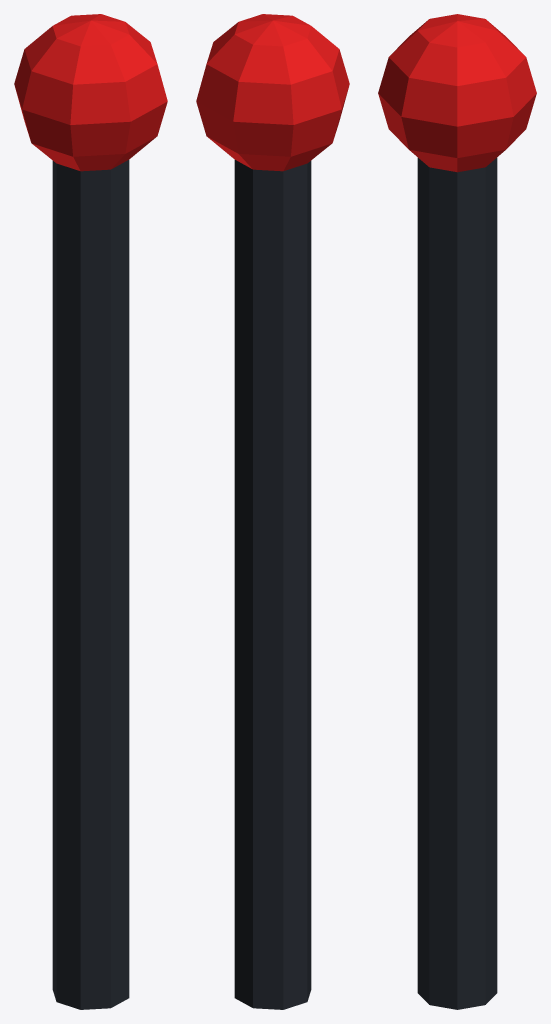
Rendered from Palo.obj.
The picture shows the model from 3 angles, left to right: view 1: azimuth 30°, elevation 25°; view 2: azimuth 150°, elevation 25°; view 3: azimuth 270°, elevation 25°; orthographic projection.
Parts seen in each view (by area): view 1: Baliza_Perimetro_5_Poste, Baliza_Perimetro_5_Luz; view 2: Baliza_Perimetro_5_Poste, Baliza_Perimetro_5_Luz; view 3: Baliza_Perimetro_5_Poste, Baliza_Perimetro_5_Luz.
Part boxes in pixels (x1,y1,x2,y2): Baliza_Perimetro_5_Poste: (52, 160, 129, 1009); Baliza_Perimetro_5_Luz: (14, 14, 167, 171); Baliza_Perimetro_5_Poste: (234, 160, 311, 1009); Baliza_Perimetro_5_Luz: (196, 14, 349, 171); Baliza_Perimetro_5_Poste: (417, 157, 497, 1009); Baliza_Perimetro_5_Luz: (378, 14, 536, 172).
Bounding box in the file's own units: 0.4 × 2.7 × 0.4.
